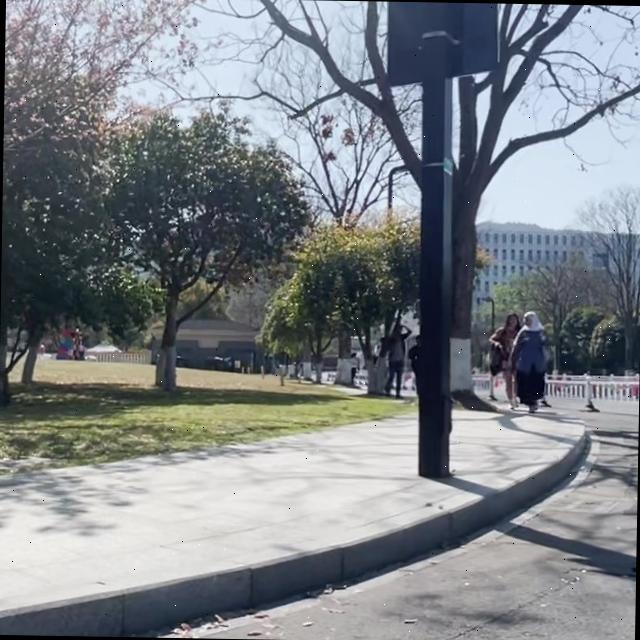curb: (0, 434, 589, 636)
